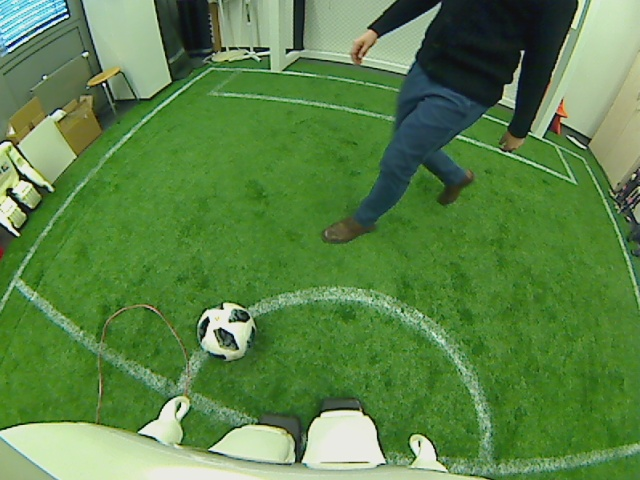ball: (194, 301, 258, 361)
